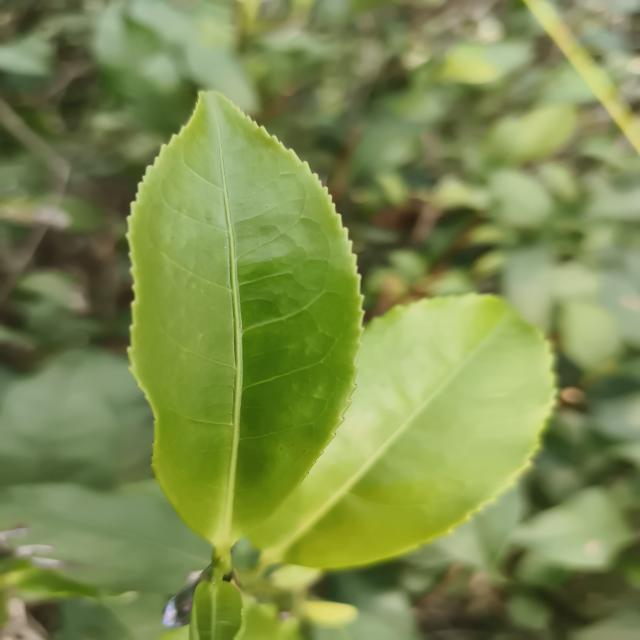Leaf: (128, 92, 362, 555), (251, 294, 555, 569), (189, 579, 243, 640)
